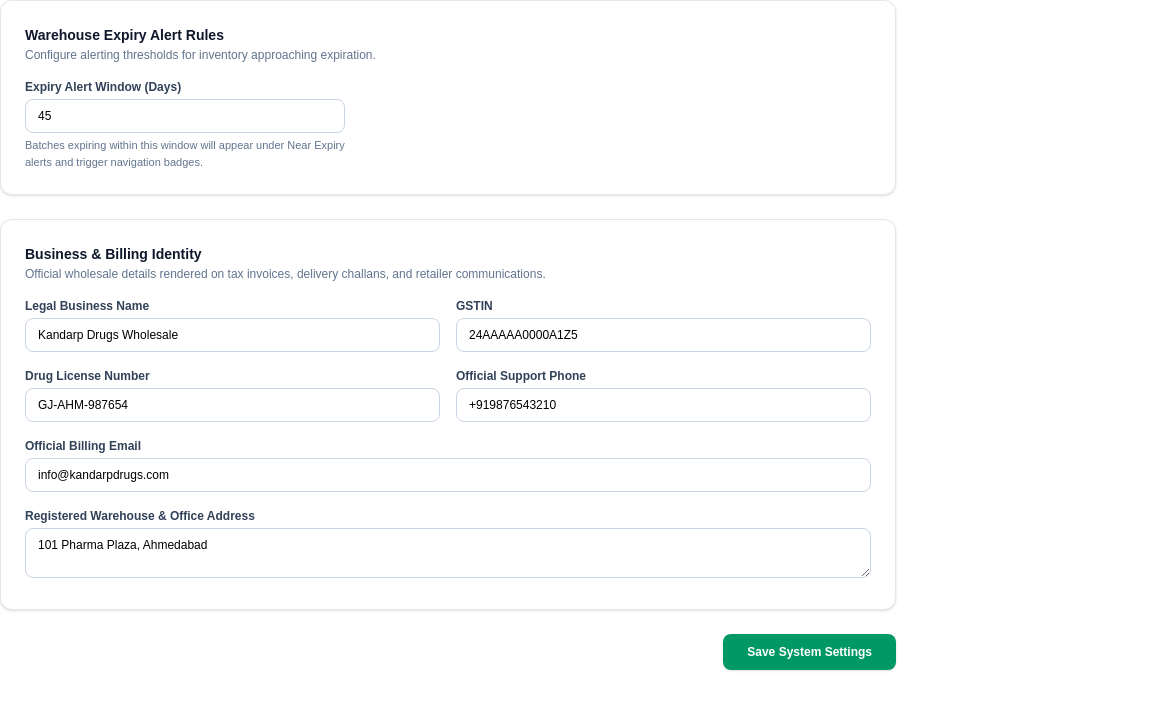
Scenario: SettingsForm Component › validates invalid GSTIN format on submit
The width and height of the screenshot is (1152, 720).
Replace the text in the field showing "24AAAAA0000A1Z5" below "GSTIN" with "INVALID_GSTIN_123" at coordinates (664, 335), box [456,318,871,352]
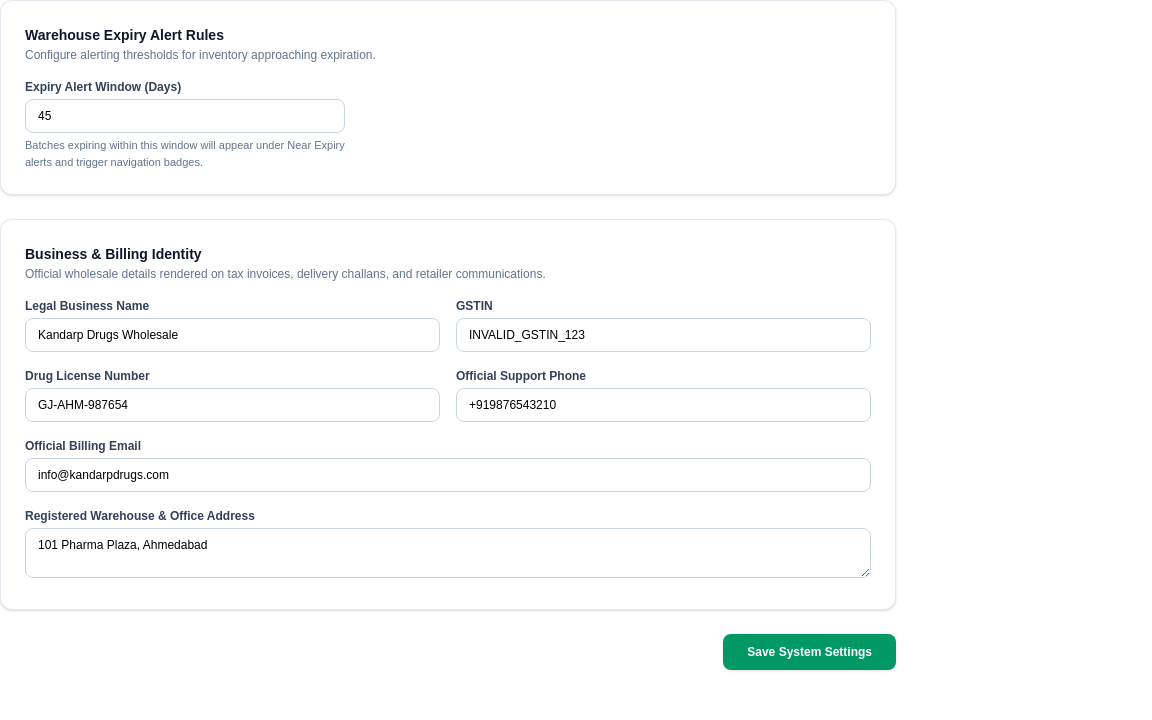
Click the button "Save System Settings" at coordinates (810, 652), box [723,634,896,670]
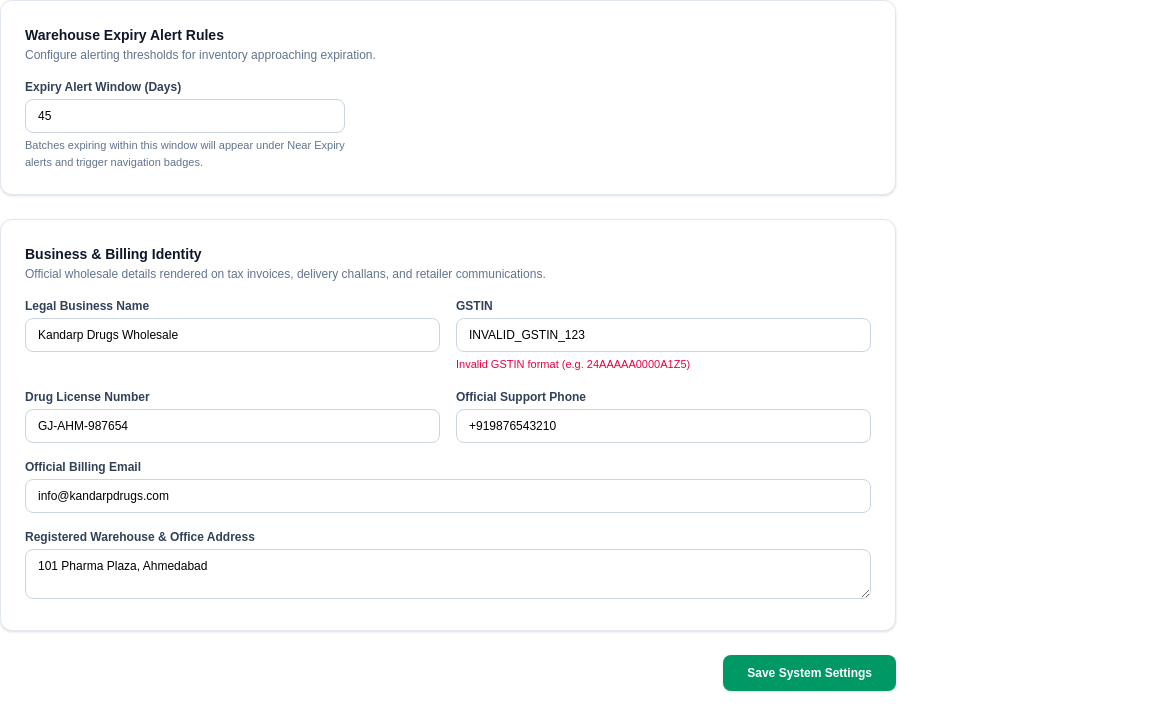
Now the text "Invalid GSTIN format (e.g. 24AAAAA0000A1Z5)" is shown, box [456,358,690,370]
